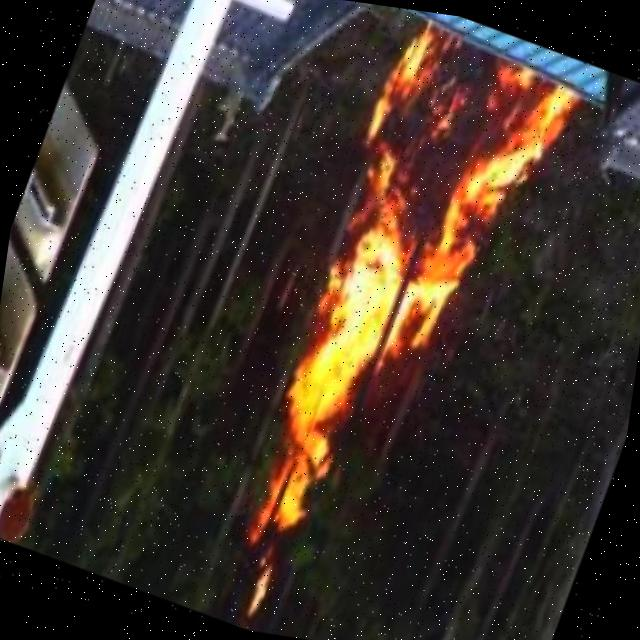fire: (227, 9, 587, 640)
